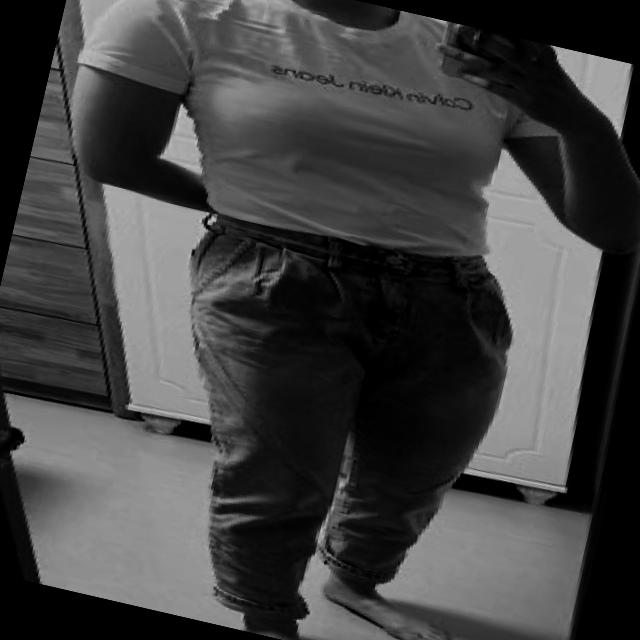denimpants: (114, 188, 529, 640)
shortsleeve: (44, 0, 582, 286)
